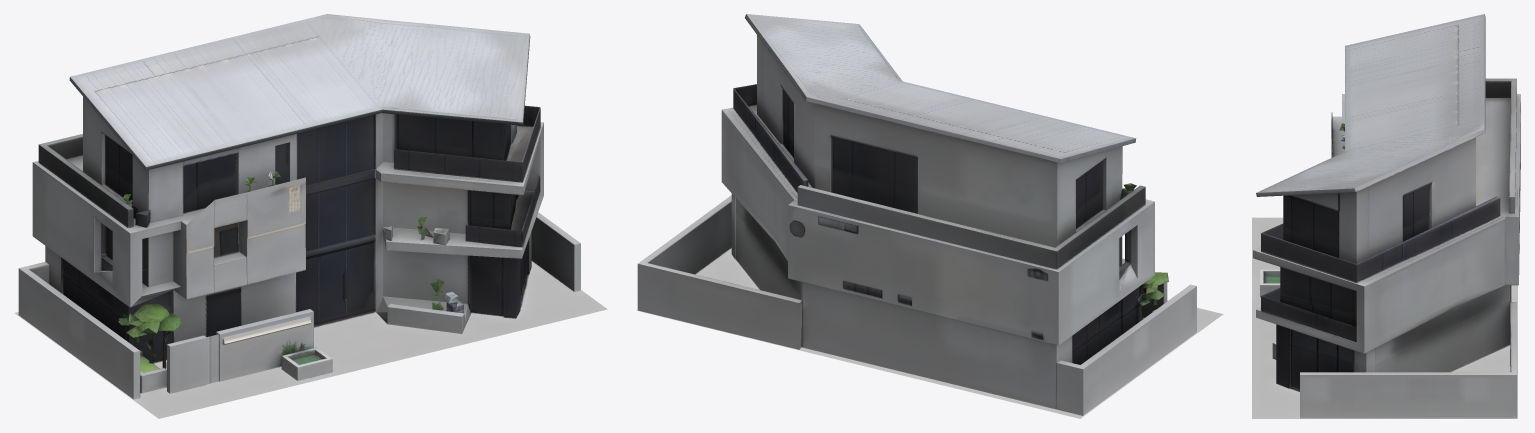
File: edificio3.obj
3 views of the same model, side by side, from view 1: azimuth 30°, elevation 25°; view 2: azimuth 150°, elevation 25°; view 3: azimuth 270°, elevation 25° (orthographic). The views are drawn at different scales.
Parts seen in each view (by area): view 1: model; view 2: model; view 3: model.
Part boxes in pixels (left/top/right/bottom): model: left=14, top=14, right=607, bottom=418; model: left=637, top=14, right=1223, bottom=418; model: left=1252, top=14, right=1520, bottom=418.
Size of the model in its own units: 1.88 by 0.9635 by 1.06.
1 material, 1 textured.
